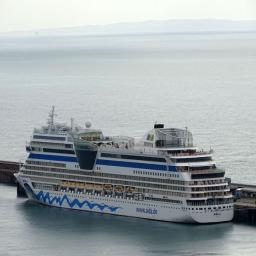cruises: (13, 106, 238, 229)
